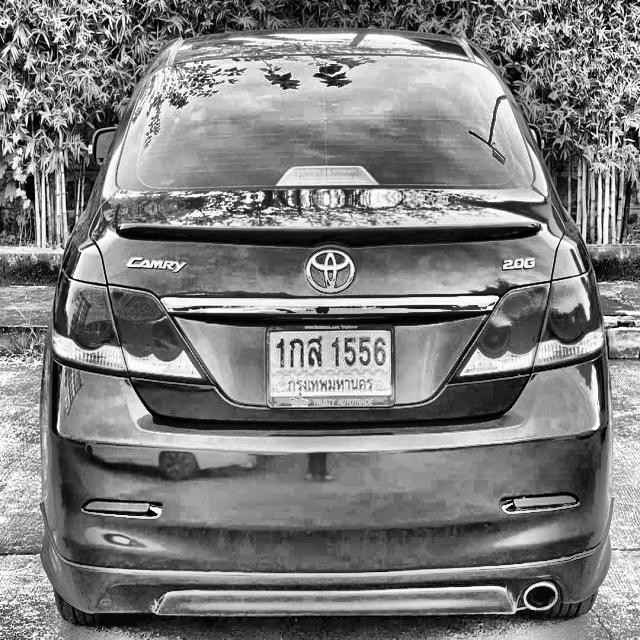license-plate: (264, 320, 395, 408)
